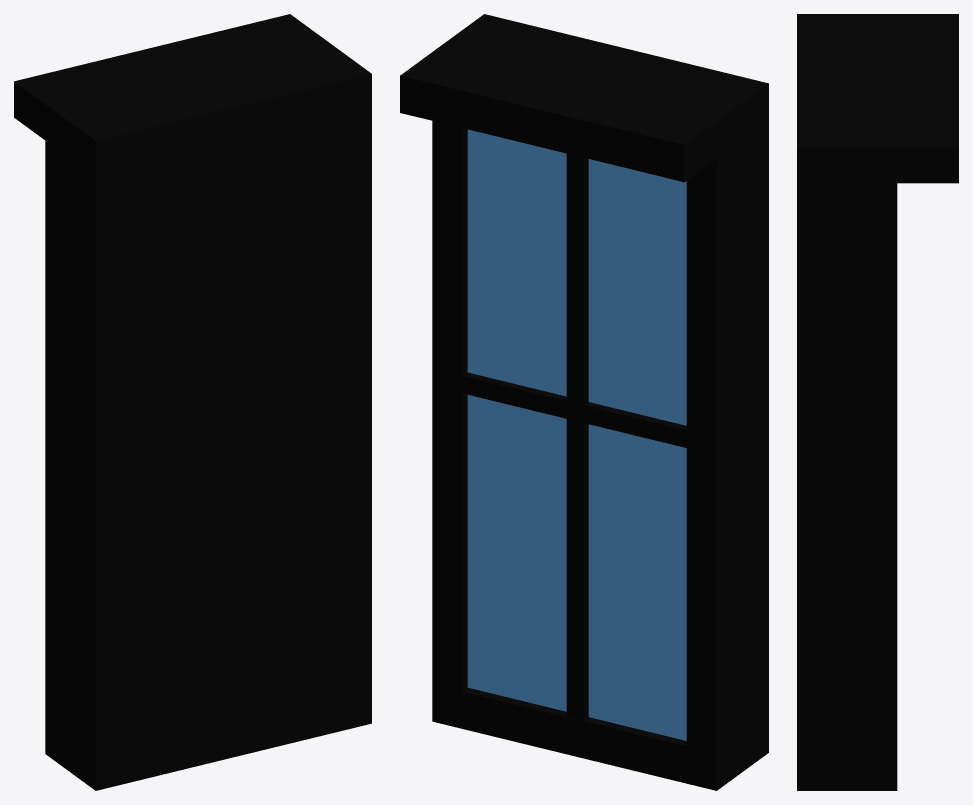
File: WindowUV.obj
3 renders of one model, left to right at view 1: azimuth 30°, elevation 25°; view 2: azimuth 150°, elevation 25°; view 3: azimuth 270°, elevation 25°, orthographic. The views are drawn at different scales.
Parts seen in each view (by area): view 1: pCube22; view 2: pCube22; view 3: pCube22.
Part boxes in pixels (box(x1,y1,x2,y2)): pCube22: box(14, 14, 371, 790); pCube22: box(400, 14, 768, 790); pCube22: box(797, 14, 958, 790).
Bounding box in the file's own units: 3.06 × 6.89 × 1.57.
